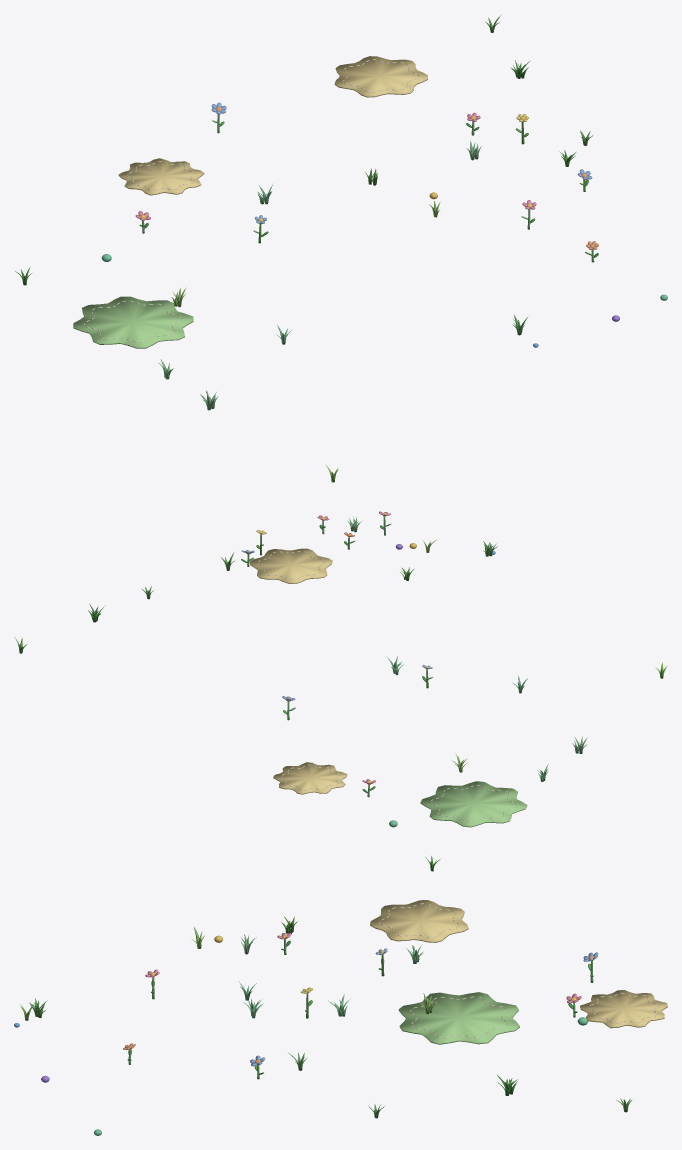
File: W3_FloraRing_8_10.fbx
3 views of the same model, one above another, from view 1: azimuth 30°, elevation 25°; view 2: azimuth 150°, elevation 25°; view 3: azimuth 270°, elevation 25° (orthographic). The views are drawn at different scales.
Parts seen in each view (by area): view 1: W3_FloraRing_8_10; view 2: W3_FloraRing_8_10; view 3: W3_FloraRing_8_10.
Boxes of the visible parts, x1,y1,x2,y2 form: W3_FloraRing_8_10: (15, 14, 667, 482); W3_FloraRing_8_10: (14, 511, 667, 871); W3_FloraRing_8_10: (14, 900, 667, 1135).
Bounding box in the file's own units: 3.78 × 1.58 × 4.12.
